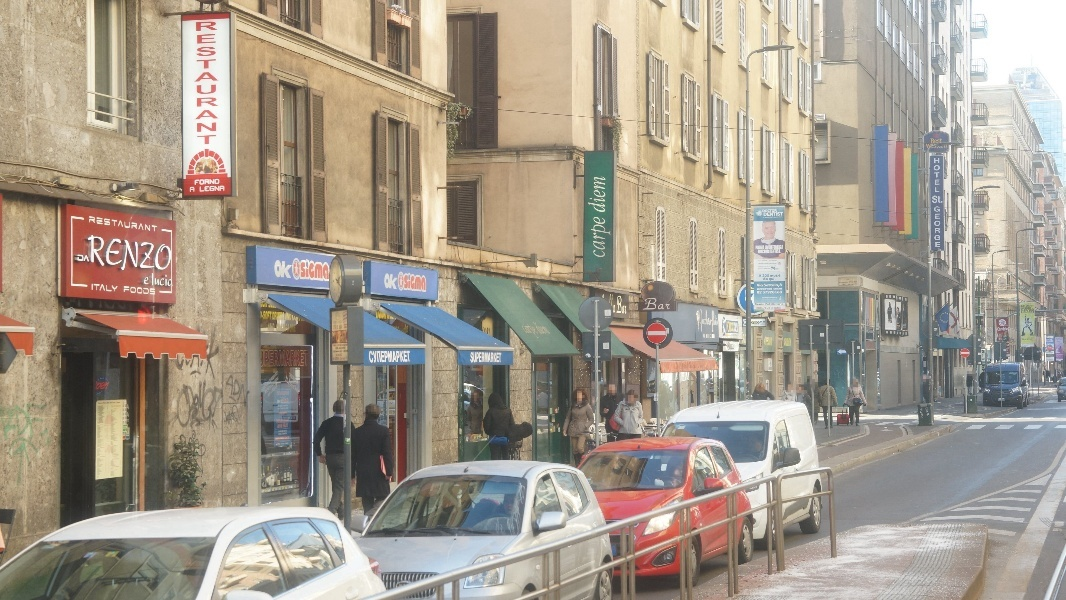text: (196, 21, 208, 145), (209, 21, 218, 145), (97, 405, 112, 479), (113, 405, 122, 479), (1, 402, 16, 444), (17, 402, 32, 444), (593, 217, 608, 258), (210, 340, 224, 381), (97, 235, 112, 273), (113, 235, 128, 273), (129, 235, 144, 273), (145, 235, 160, 273), (593, 176, 607, 213), (33, 402, 44, 444), (161, 235, 172, 273), (934, 207, 944, 248), (230, 374, 240, 409), (241, 374, 251, 409), (934, 158, 944, 193), (305, 259, 320, 282), (705, 309, 719, 333), (225, 404, 241, 425), (88, 235, 96, 273), (610, 294, 624, 313), (385, 273, 400, 290), (275, 260, 288, 279), (97, 216, 112, 232), (113, 216, 128, 232), (129, 216, 144, 232), (273, 350, 288, 366), (289, 350, 304, 366), (404, 273, 416, 292), (289, 375, 300, 395), (145, 273, 160, 287), (321, 259, 330, 282), (289, 372, 304, 385), (529, 324, 542, 339), (145, 216, 157, 232), (417, 273, 427, 292), (263, 370, 272, 391), (261, 350, 272, 367), (657, 298, 671, 311), (369, 351, 384, 363), (385, 351, 400, 363), (161, 273, 173, 287), (481, 352, 496, 363), (129, 286, 144, 296), (97, 284, 112, 293), (273, 312, 288, 321), (785, 338, 800, 347), (617, 296, 624, 315), (533, 322, 544, 334), (646, 298, 656, 311), (401, 351, 411, 363), (209, 185, 225, 192), (89, 216, 96, 232), (265, 350, 272, 366), (589, 176, 592, 213), (145, 286, 156, 296), (470, 352, 480, 363), (276, 323, 288, 332), (337, 344, 349, 353), (932, 195, 944, 204), (273, 370, 278, 391), (521, 324, 528, 339), (97, 382, 110, 390), (266, 377, 272, 394), (273, 377, 279, 394), (727, 322, 736, 333), (194, 179, 208, 186), (700, 309, 704, 333), (300, 259, 304, 282), (545, 322, 552, 334), (609, 217, 611, 258), (81, 254, 90, 263), (263, 311, 272, 320), (209, 179, 220, 186), (337, 353, 348, 360), (278, 404, 288, 411), (273, 383, 278, 397), (758, 260, 768, 267), (921, 408, 928, 418), (931, 139, 944, 144), (275, 436, 288, 441), (305, 350, 309, 366), (289, 323, 296, 332), (769, 260, 778, 267), (278, 430, 288, 436), (276, 419, 288, 424), (278, 423, 288, 429), (769, 213, 784, 217), (769, 277, 784, 281), (769, 246, 784, 250), (289, 260, 292, 279), (200, 185, 208, 192), (770, 250, 784, 254), (277, 391, 288, 396), (497, 352, 502, 363), (705, 334, 716, 339), (113, 284, 119, 293), (999, 320, 1008, 326), (771, 267, 784, 271), (769, 291, 782, 295), (1025, 309, 1035, 314), (756, 246, 768, 250), (276, 442, 288, 446), (91, 284, 96, 293), (769, 303, 784, 306), (277, 399, 288, 403), (769, 284, 780, 288), (757, 284, 768, 288), (997, 327, 1008, 331), (269, 383, 272, 397), (770, 274, 784, 277), (98, 402, 112, 405), (591, 217, 592, 258), (124, 286, 128, 296), (758, 250, 768, 254), (1046, 357, 1056, 361), (753, 322, 766, 325), (769, 307, 782, 310), (769, 288, 782, 291), (625, 296, 627, 315), (279, 412, 288, 416), (756, 307, 768, 310), (756, 303, 768, 306), (1025, 338, 1034, 342), (769, 337, 773, 346), (935, 145, 944, 149), (725, 334, 736, 337), (757, 291, 768, 294), (757, 288, 768, 291), (268, 323, 272, 331), (337, 325, 343, 330), (730, 345, 736, 350), (849, 281, 864, 283), (1057, 354, 1063, 359), (925, 407, 928, 417), (897, 325, 912, 327), (769, 216, 783, 218), (285, 312, 288, 321), (289, 312, 292, 321), (333, 344, 336, 353), (769, 210, 778, 213), (759, 275, 768, 278), (769, 297, 778, 300), (1025, 305, 1034, 308), (765, 337, 768, 346), (1057, 342, 1066, 345), (113, 402, 121, 405), (737, 322, 739, 333), (333, 353, 336, 360), (1057, 338, 1064, 341), (287, 375, 288, 395), (763, 291, 768, 295), (1046, 336, 1056, 338), (1046, 352, 1056, 354), (1046, 354, 1056, 356), (78, 254, 80, 263), (759, 268, 768, 270), (762, 297, 768, 300), (1047, 339, 1056, 341), (929, 143, 932, 149), (273, 323, 275, 331), (764, 213, 768, 217), (776, 269, 784, 271), (840, 282, 848, 284), (764, 284, 768, 288), (333, 325, 336, 330), (763, 210, 768, 213), (763, 274, 768, 277), (763, 307, 768, 310), (1021, 309, 1024, 314), (190, 186, 192, 193), (193, 186, 195, 193), (1025, 307, 1032, 309), (764, 277, 768, 280), (780, 284, 784, 287), (765, 246, 768, 250), (926, 143, 928, 149), (945, 145, 948, 149), (763, 216, 768, 218), (929, 407, 930, 417), (849, 284, 854, 286), (1021, 305, 1024, 308), (1022, 338, 1024, 342), (737, 334, 739, 337), (766, 303, 768, 306), (127, 404, 128, 410), (126, 420, 128, 423), (1006, 344, 1008, 347), (289, 391, 290, 396), (703, 334, 704, 339), (127, 412, 128, 417), (129, 412, 130, 417), (843, 285, 848, 286), (289, 436, 290, 441), (769, 268, 771, 270), (1006, 350, 1008, 352), (289, 442, 290, 446), (751, 322, 752, 325), (769, 274, 770, 277), (849, 279, 851, 280), (1023, 307, 1024, 309), (1007, 348, 1008, 350), (1009, 348, 1010, 350), (1007, 352, 1008, 354), (847, 279, 848, 280)
